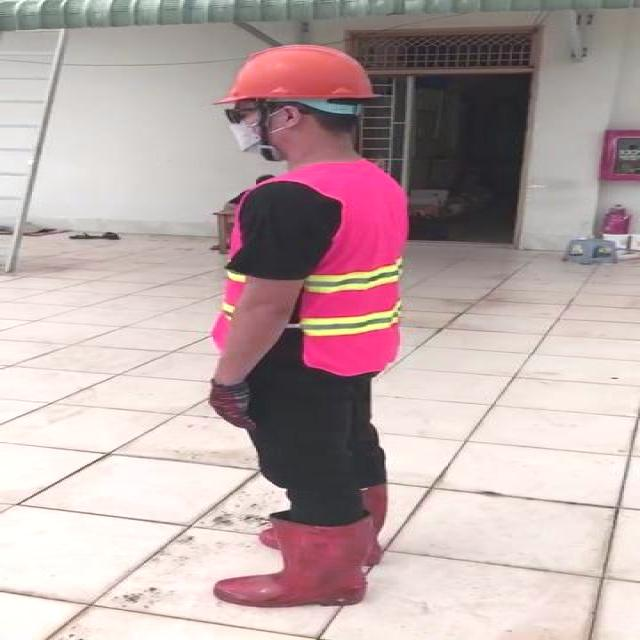boots: (214, 516, 372, 607)
face_mask: (216, 98, 300, 158)
hand_glove: (210, 383, 256, 430)
head_helmet: (211, 42, 383, 110)
person: (187, 42, 430, 613)
vest: (210, 158, 409, 375)
